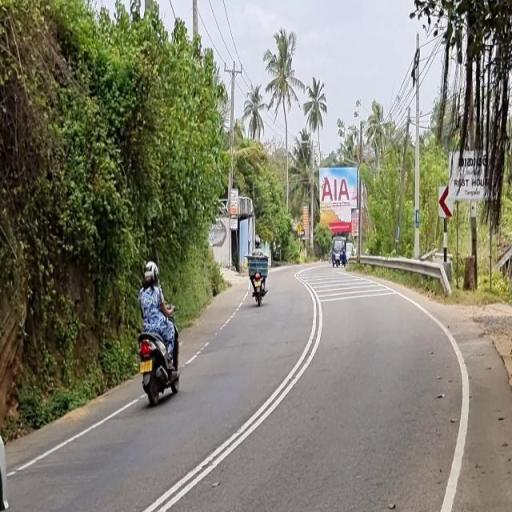double_white_line: (142, 278, 324, 510)
